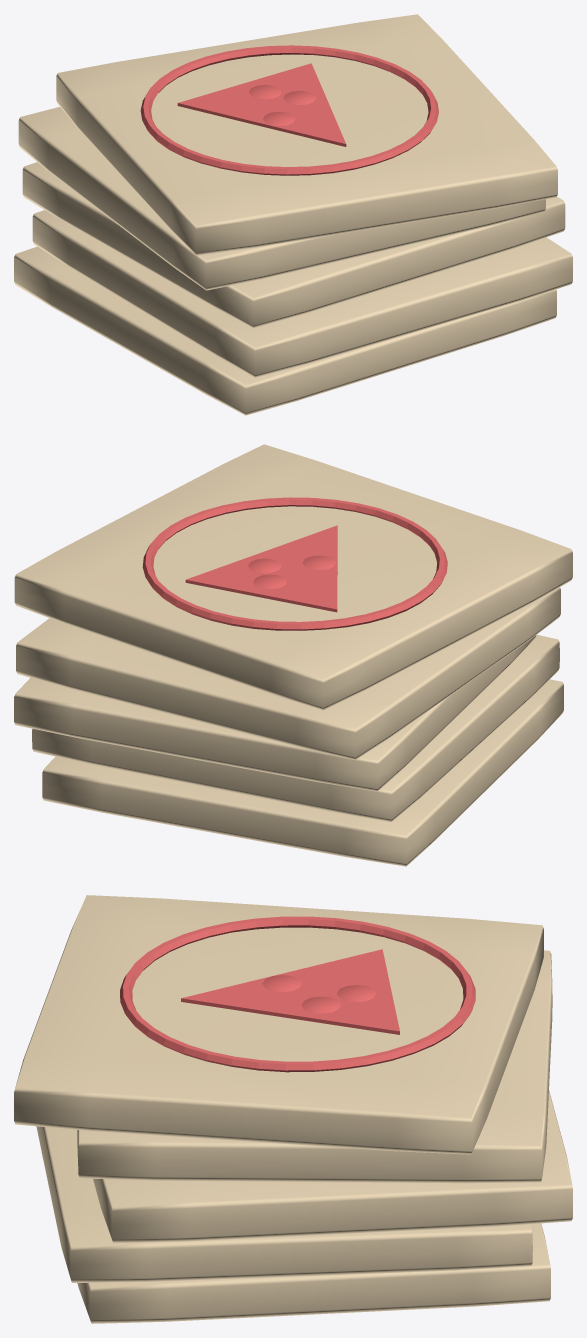
File: EatsaPizzaBoxes.glb
3 renders of one model, top to bottom at view 1: azimuth 30°, elevation 25°; view 2: azimuth 150°, elevation 25°; view 3: azimuth 270°, elevation 25°, orthographic. The views are drawn at different scales.
Visible parts, largest first — view 1: Box, Print, Dots; view 2: Box, Print, Dots; view 3: Box, Print, Dots.
Part boxes in pixels (left/top/right/bottom): Box: left=14, top=14, right=572, bottom=415; Print: left=140, top=45, right=438, bottom=175; Dots: left=249, top=85, right=315, bottom=125; Box: left=14, top=444, right=572, bottom=866; Print: left=142, top=497, right=447, bottom=630; Dots: left=248, top=555, right=335, bottom=589; Box: left=14, top=895, right=572, bottom=1323; Print: left=120, top=916, right=475, bottom=1072; Dots: left=262, top=975, right=375, bottom=1013.
Bounding box in the file's own units: 6.95 × 3.28 × 7.15.
